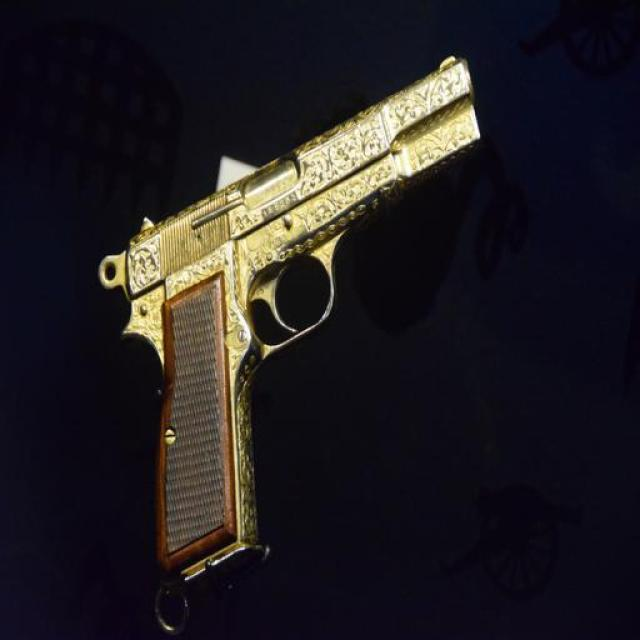pistol: (86, 46, 476, 585)
